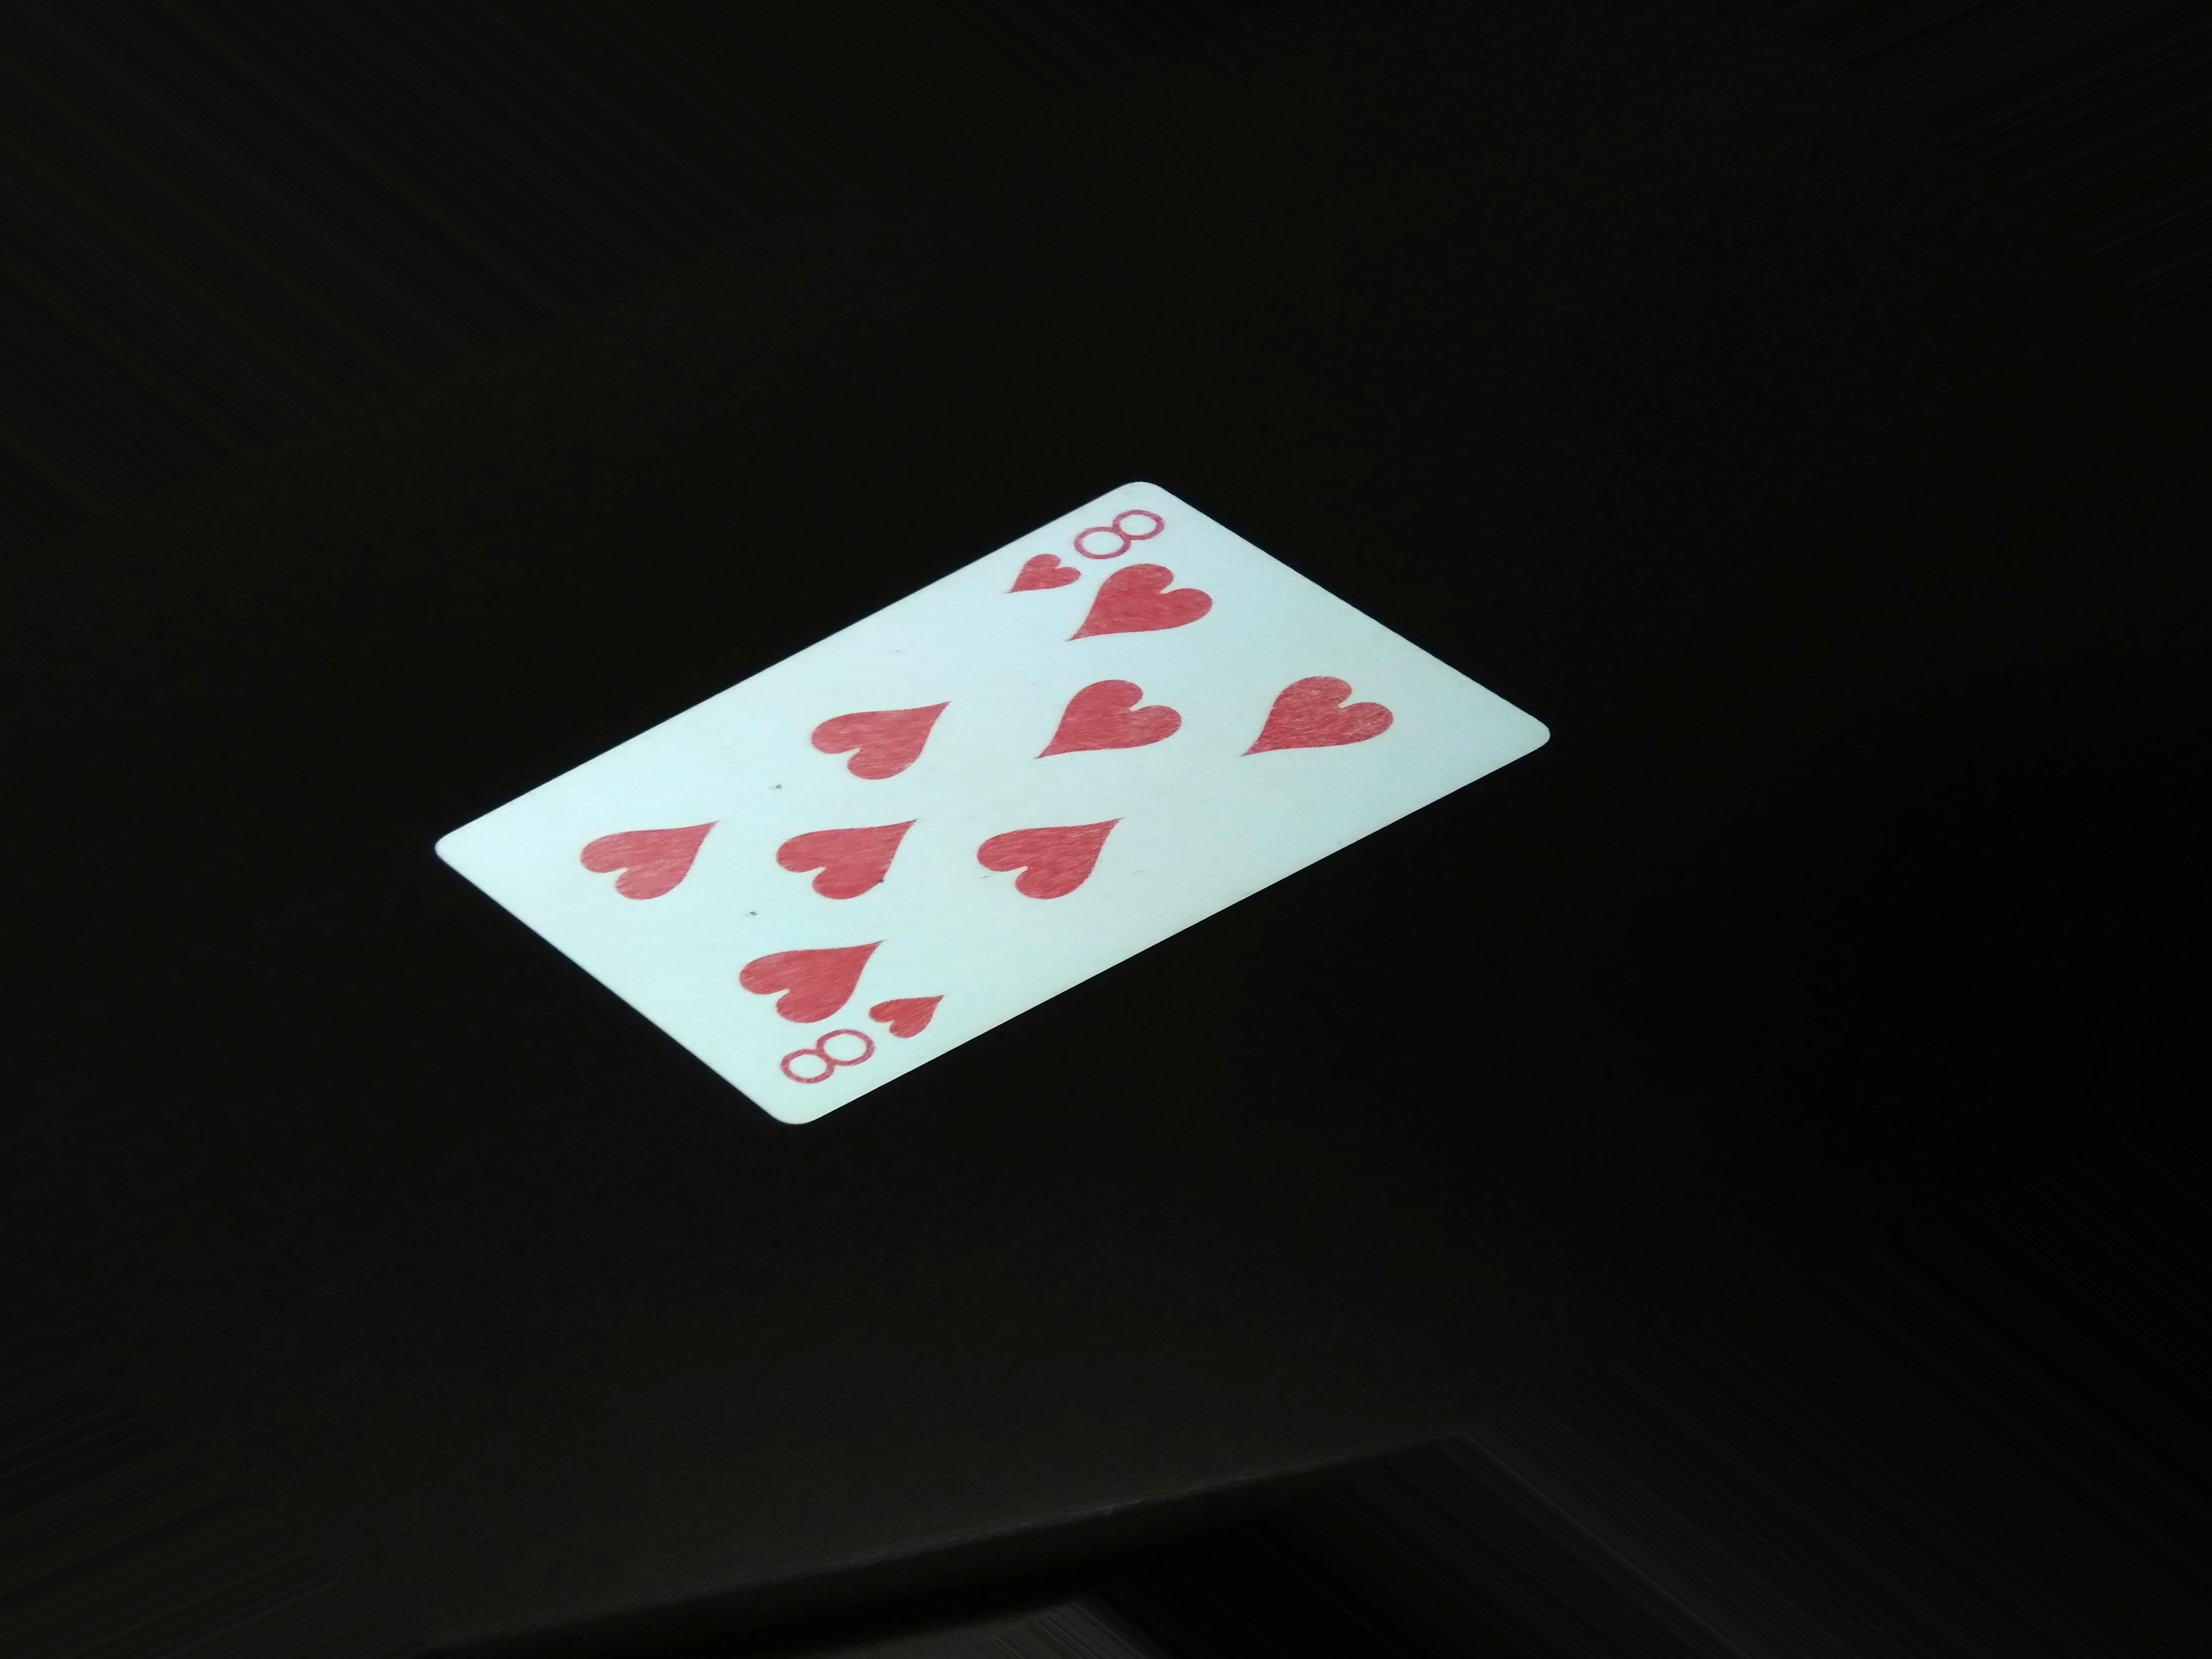8H: (981, 498, 1167, 620)
